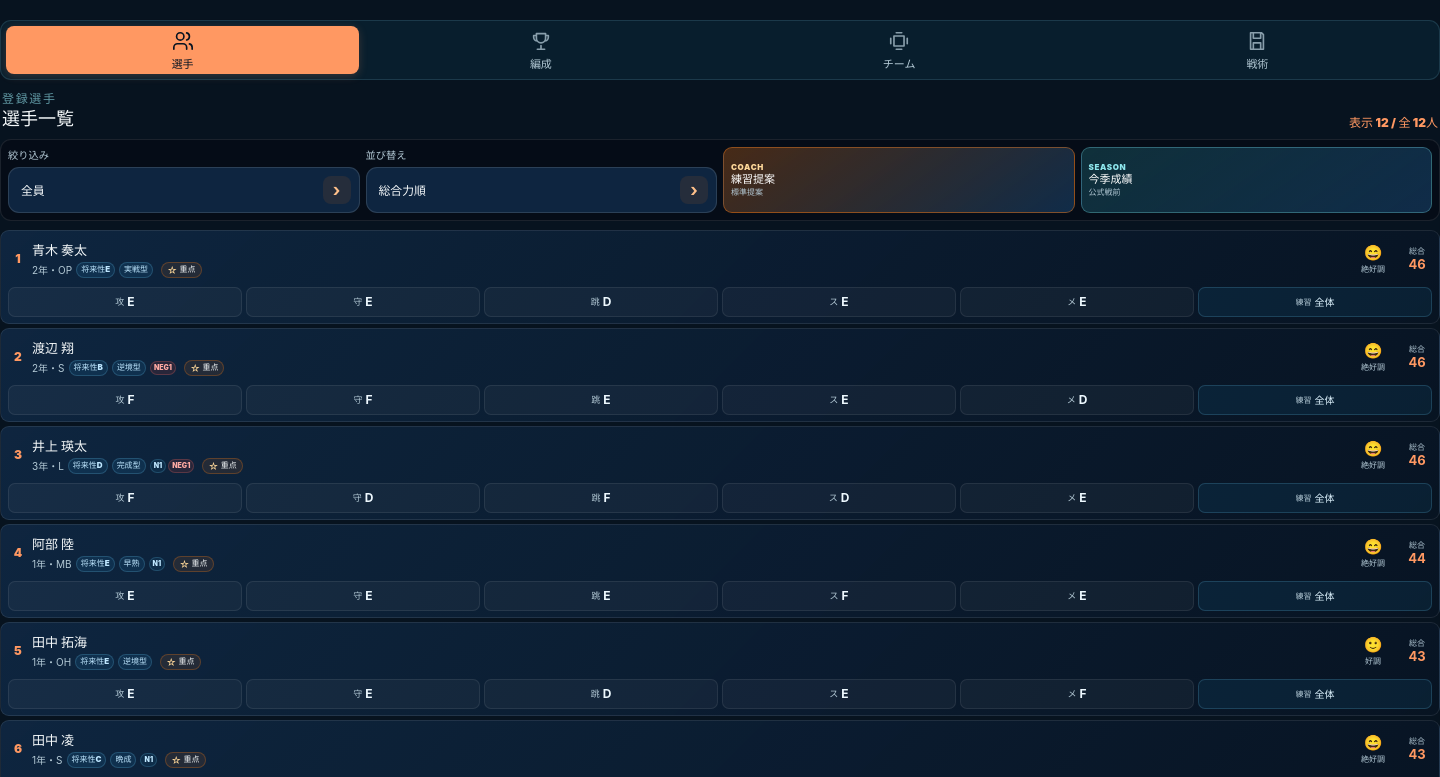
Test: PlayerHubScreen › keeps the existing lineup editor available
The width and height of the screenshot is (1440, 777).
Click the button "編成" at (541, 50), box [364, 26, 718, 74]
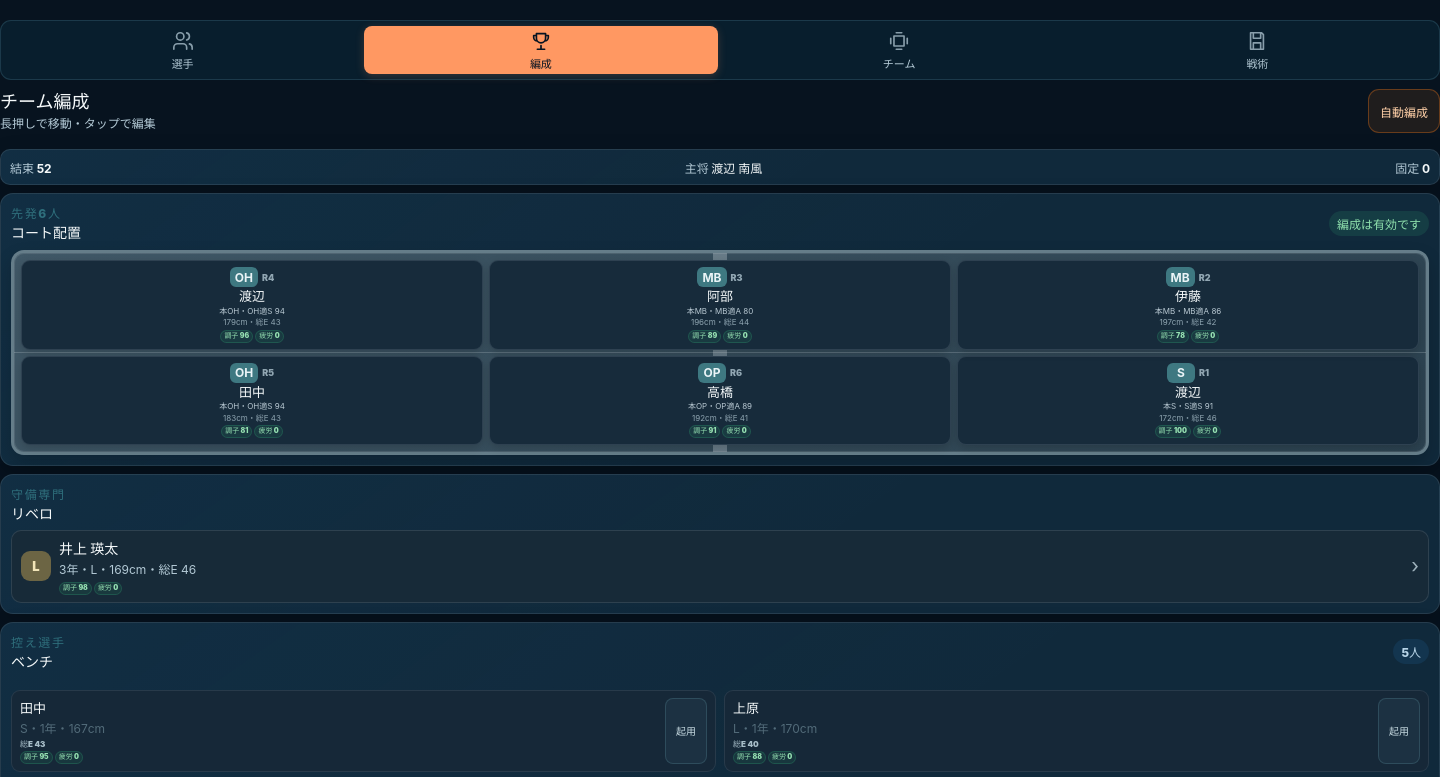
Check: the heading "チーム編成" is shown, box [0, 91, 90, 112]
